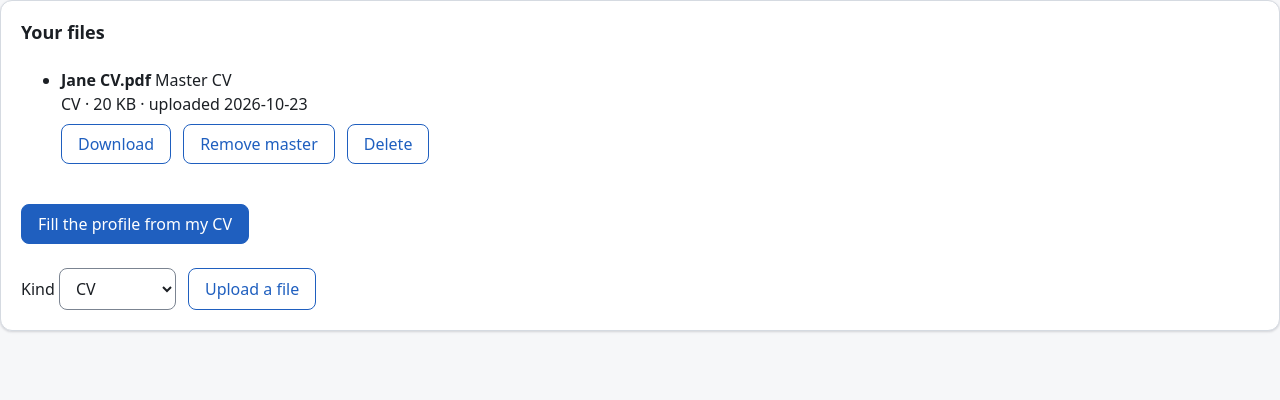
Test: filling the profile from the master CV › shows a fixed message for 409
The width and height of the screenshot is (1280, 400).
Click the button "Fill the profile from my CV".
click(135, 224)  # box [21,204,249,244]
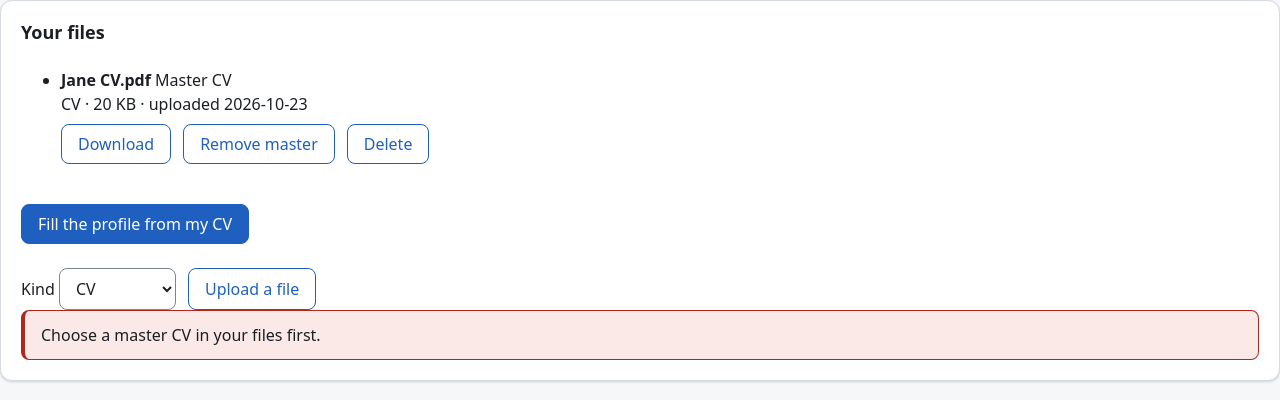
Expected: the message reads "Choose a master CV in your files first.", [41,324,321,346]
